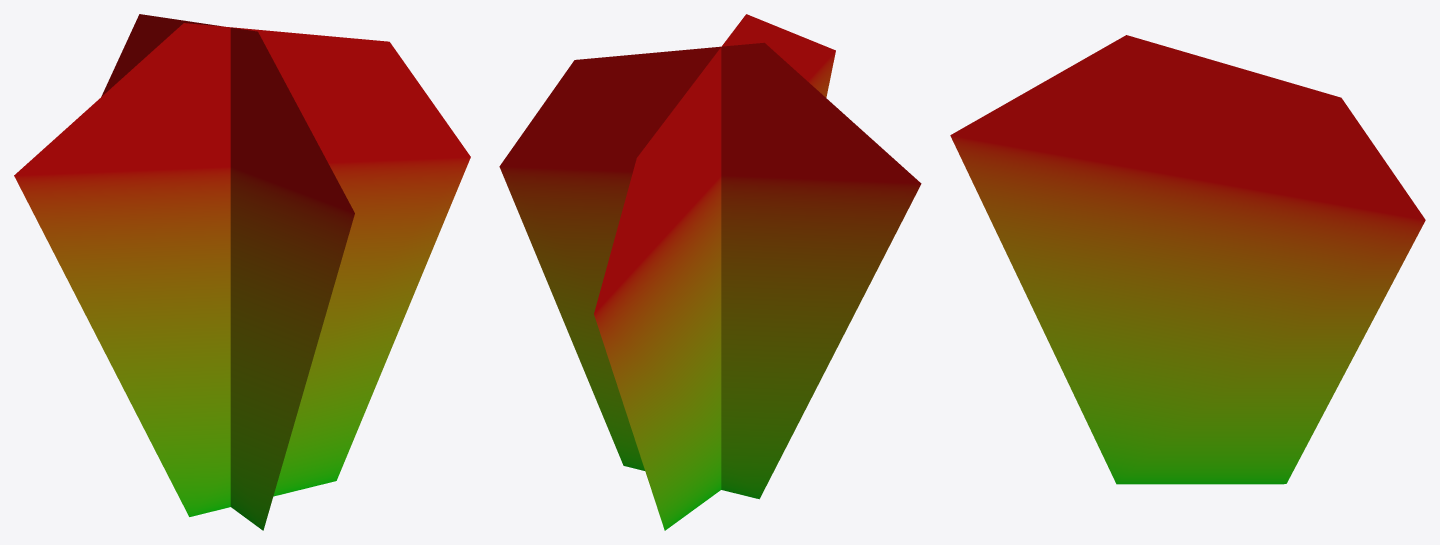
Rendered from Dead Shrubs_LOD4_Var5_vdknbbuha.fbx.
3 renders of one model, left to right at view 1: azimuth 30°, elevation 25°; view 2: azimuth 150°, elevation 25°; view 3: azimuth 270°, elevation 25°, orthographic. The views are drawn at different scales.
Parts seen in each view (by area): view 1: _3nwt_Var5_LOD4; view 2: _3nwt_Var5_LOD4; view 3: _3nwt_Var5_LOD4.
Part boxes in pixels (x1=…): _3nwt_Var5_LOD4: x1=14, y1=14, x2=470, y2=530; _3nwt_Var5_LOD4: x1=499, y1=14, x2=921, y2=530; _3nwt_Var5_LOD4: x1=950, y1=35, x2=1425, y2=484.
Size of the model in its own units: 47.22 by 48.94 by 46.91.
